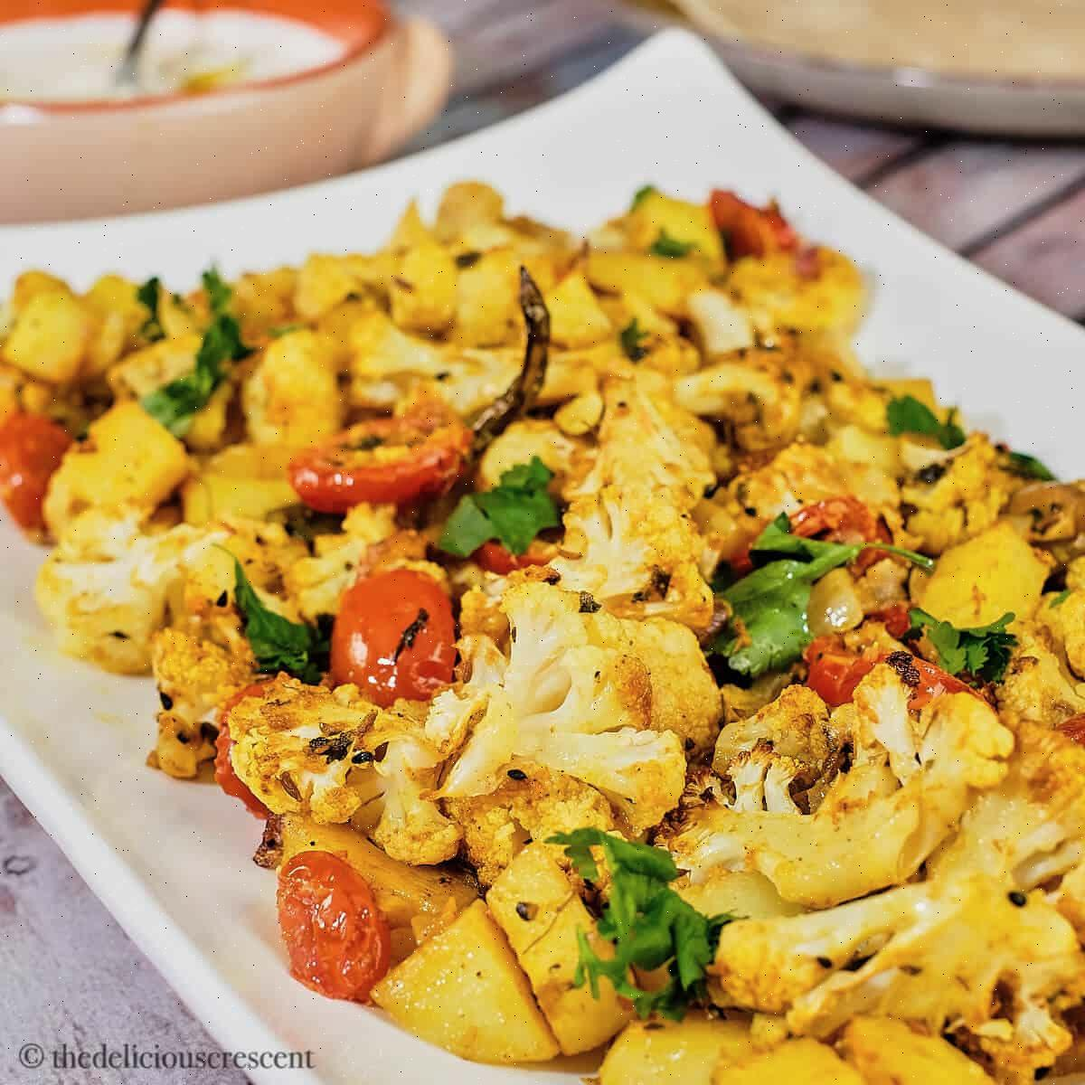aloo gobhi: (49, 257, 1085, 1085)
